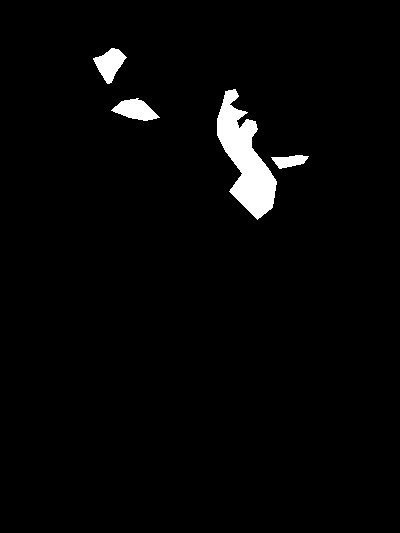Fire: (209, 91, 315, 225)
